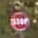stop: (8, 11, 30, 30)
